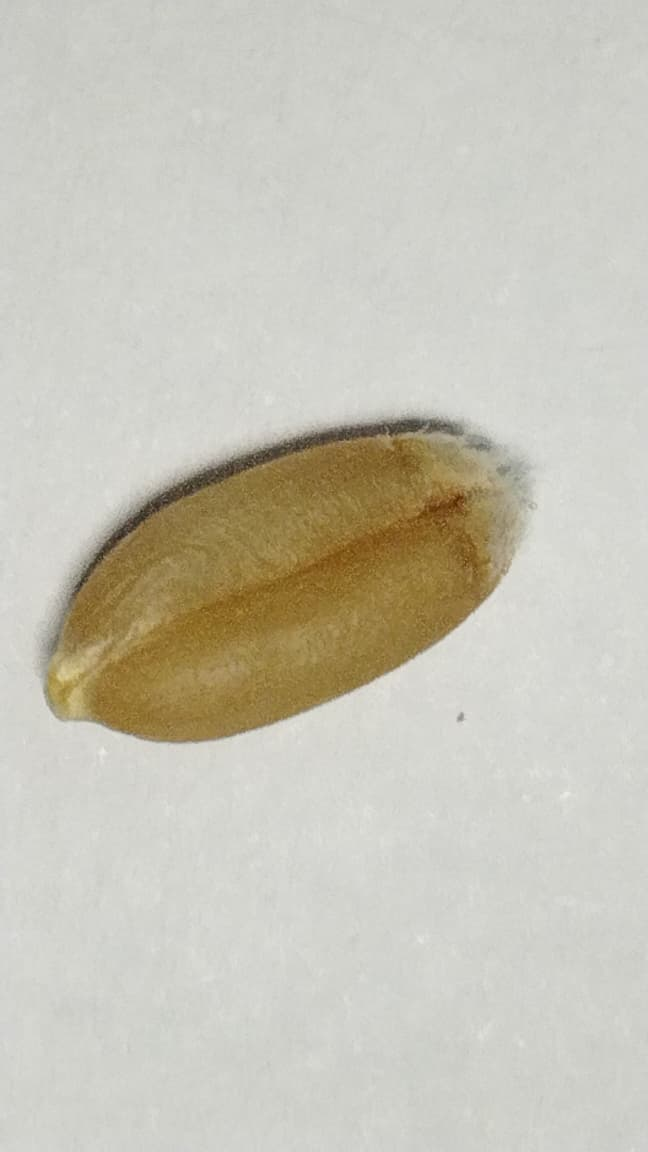healthy: (49, 428, 527, 740)
